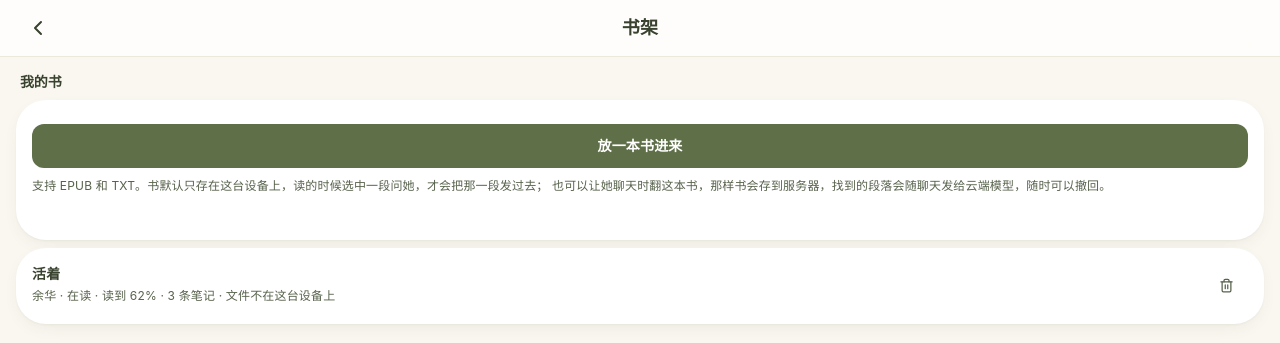
Scenario: 书架 › 本机没有文件的书点不开，先提示重新放一次
Click the text "活着".
click(46, 273)  # box [32,264,60,282]
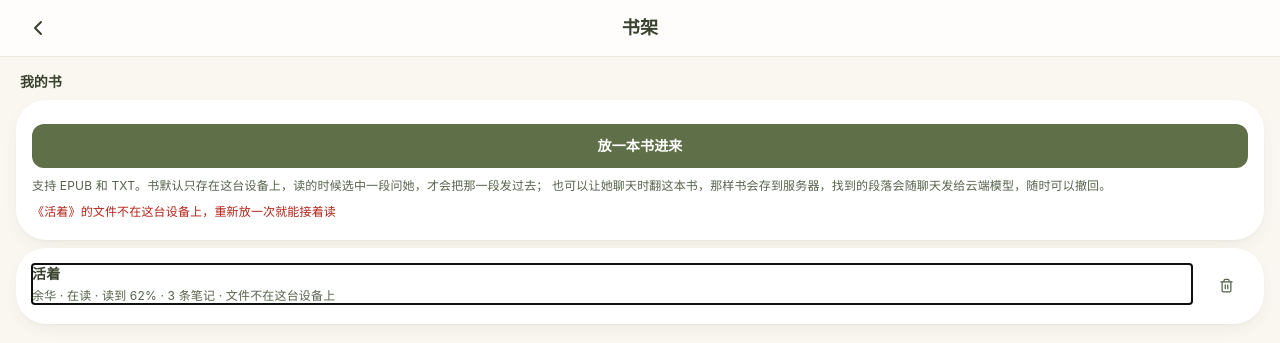
Now the message shows "重新放一次", box [32,204,336,218]
